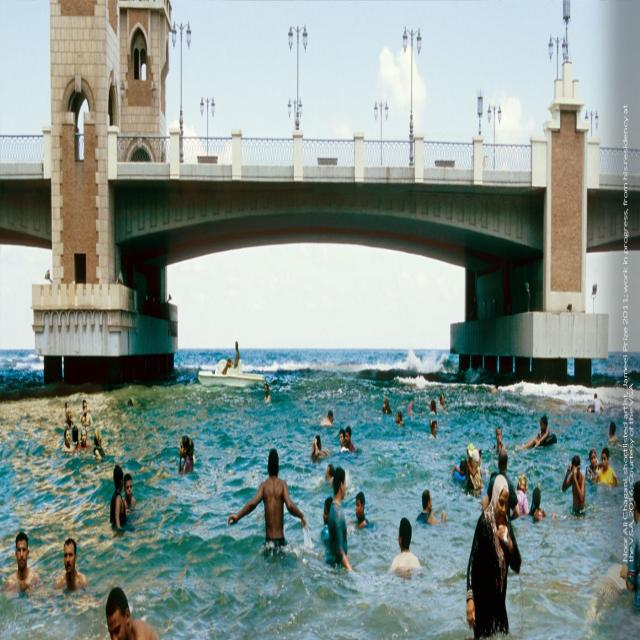body: (464, 468, 523, 639), (226, 446, 308, 559), (323, 465, 357, 576), (0, 530, 45, 598), (481, 448, 521, 524), (105, 586, 159, 640), (619, 478, 640, 614), (387, 516, 421, 577), (54, 536, 90, 592), (452, 440, 484, 494), (561, 453, 587, 518), (345, 490, 379, 538), (512, 417, 556, 453), (109, 462, 131, 532), (415, 488, 447, 526), (324, 459, 356, 496), (593, 445, 621, 487), (510, 471, 530, 520), (528, 485, 548, 522), (178, 434, 195, 477), (221, 340, 240, 376), (584, 449, 602, 484), (311, 432, 330, 464), (319, 496, 332, 541), (122, 472, 137, 509), (55, 398, 74, 425), (92, 425, 106, 461), (586, 391, 606, 415), (493, 426, 507, 460), (78, 399, 94, 427), (60, 426, 74, 454), (76, 427, 91, 451), (344, 424, 356, 452), (485, 379, 500, 399), (339, 427, 350, 453), (69, 425, 79, 453), (319, 409, 334, 427), (608, 420, 618, 446), (381, 397, 393, 415), (429, 419, 438, 440), (264, 381, 272, 404), (489, 465, 498, 485), (395, 409, 405, 427), (190, 433, 197, 458), (438, 393, 447, 412), (406, 400, 415, 416), (124, 397, 136, 408), (429, 400, 436, 416)
